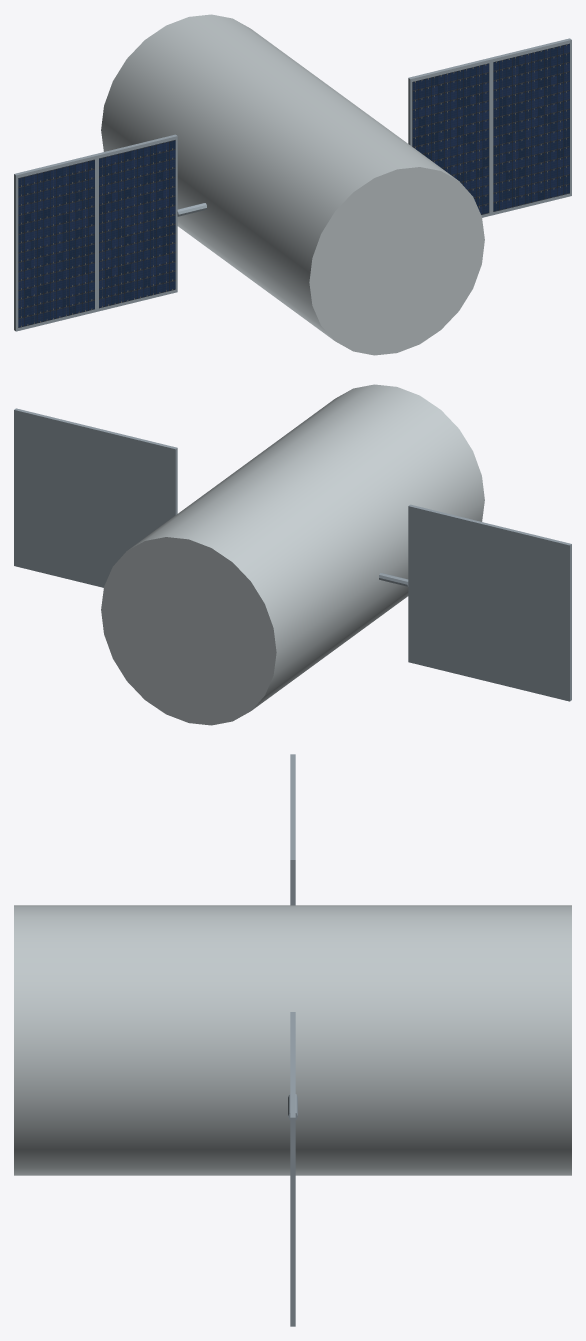
The model's file is ref-astro-f-28939.glb.
The picture shows the model from 3 angles, top to bottom: view 1: azimuth 30°, elevation 25°; view 2: azimuth 150°, elevation 25°; view 3: azimuth 270°, elevation 25°; orthographic projection. The views are drawn at different scales.
Visible parts, largest first — view 1: Spacecraft body, Photovoltaic laminates (×4), Array frame (×4); view 2: Spacecraft body, Array frame (×4); view 3: Spacecraft body, Array frame.
Part boxes in pixels (x1,y1,x2,y2): Spacecraft body: [101, 14, 484, 355]; Photovoltaic laminates (×4): [18, 43, 569, 327]; Array frame (×4): [14, 38, 571, 331]; Spacecraft body: [101, 384, 484, 725]; Array frame (×4): [14, 408, 571, 701]; Spacecraft body: [14, 905, 571, 1175]; Array frame: [290, 1064, 295, 1326].
Bounding box in the file's own units: 5.7 × 1.8 × 3.7.
Materials: 3 (1 with a texture image).
